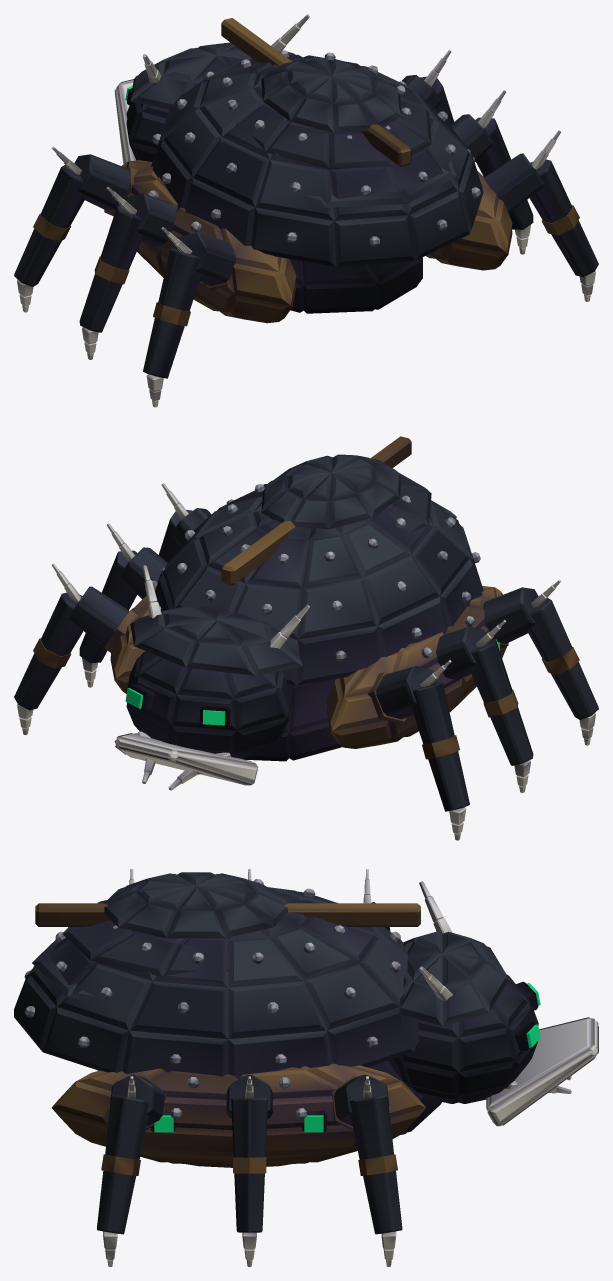
File: KepriScarab.glb
3 views of the same model, one above another, from view 1: azimuth 30°, elevation 25°; view 2: azimuth 150°, elevation 25°; view 3: azimuth 270°, elevation 25° (orthographic). The views are drawn at different scales.
Parts seen in each view (by area): view 1: Body__Tex, Head__Tex, LegL3_2__Tex, LegL2_2__Tex, LegL1_2__Tex, LegR3_2__Tex, LegL1_1__Tex, LegR3_1__Tex, LegL3_1__Tex, LegL2_1__Tex, LegR2_2__Tex, LegR2_1__Tex (+1 smaller); view 2: Body__Tex, Head__Tex, LegL1_2__Tex, LegL2_2__Tex, LegL3_2__Tex, LegR1_2__Tex, LegR1_1__Tex, LegL1_1__Tex, LegL3_1__Tex, LegL2_1__Tex, LegR2_2__Tex, LegR2_1__Tex (+3 smaller); view 3: Body__Tex, Head__Tex, LegR1_2__Tex, LegR3_2__Tex, LegR2_2__Tex, LegR1_1__Tex, LegR3_1__Tex, LegR2_1__Tex, Body__Glow.
Part boxes in pixels (box(x1,y1,x2,y2)): Body__Tex: box(122, 18, 512, 323); Head__Tex: box(114, 14, 309, 164); LegL3_2__Tex: box(143, 248, 201, 407); LegL2_2__Tex: box(79, 205, 143, 359); LegL1_2__Tex: box(14, 165, 84, 312); LegR3_2__Tex: box(529, 159, 598, 301); LegL1_1__Tex: box(51, 146, 137, 216); LegR3_1__Tex: box(480, 130, 560, 213); LegL3_1__Tex: box(161, 227, 236, 290); LegL2_1__Tex: box(106, 187, 176, 247); LegR2_2__Tex: box(475, 117, 533, 254); LegR2_1__Tex: box(450, 90, 505, 161); Body__Tex: box(110, 436, 507, 761); Head__Tex: box(114, 565, 309, 790); LegL1_2__Tex: box(411, 681, 469, 840); LegL2_2__Tex: box(469, 638, 533, 792); LegL3_2__Tex: box(528, 598, 598, 745); LegR1_2__Tex: box(14, 592, 83, 734); LegR1_1__Tex: box(51, 563, 137, 652); LegL1_1__Tex: box(367, 660, 451, 723); LegL3_1__Tex: box(480, 579, 561, 648); LegL2_1__Tex: box(436, 620, 506, 680); LegR2_2__Tex: box(79, 550, 137, 687); LegR2_1__Tex: box(106, 523, 167, 599); Body__Tex: box(14, 872, 441, 1167); Head__Tex: box(388, 881, 598, 1126); LegR1_2__Tex: box(350, 1095, 402, 1266); LegR3_2__Tex: box(97, 1095, 149, 1266); LegR2_2__Tex: box(231, 1098, 267, 1266); LegR1_1__Tex: box(332, 1074, 389, 1130); LegR3_1__Tex: box(110, 1074, 166, 1129); LegR2_1__Tex: box(226, 1074, 272, 1119); Body__Glow: box(154, 1115, 323, 1132).
Bounding box in the file's own units: 5.24 × 2.76 × 5.46.
